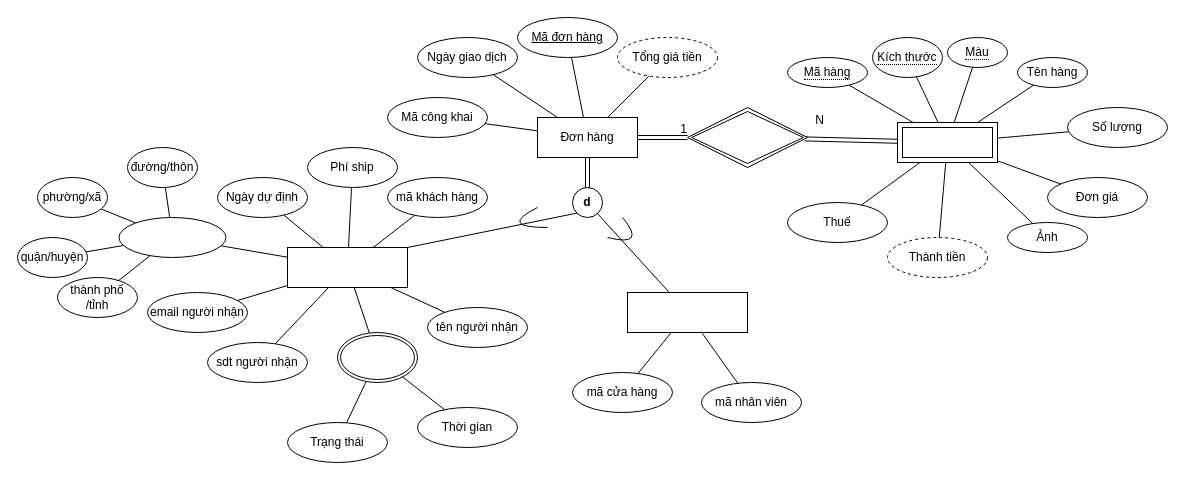
Some shapes in this 1185 by 480 pixel diagram are drawn without their labels. Here are the shapes that lost their labels. From the top down, the centre of each, then its label:
At (747,137): "Có".
At (947,142): "Hàng".
At (172,237): "địa chỉ giao hàng".
At (347,267): "Đơn hàng trực tuyến".
At (687,312): "Đơn hàng cửa hàng".
At (377,357): "Thông tin trạng thái".
